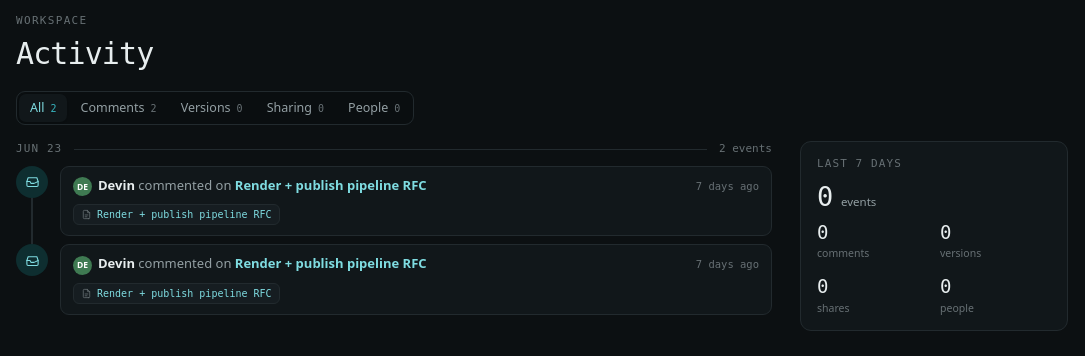
Test case: ActivityScreen category filter (workspace-activity S-003) › AS-013: a filter with no visible matches shows the no-results state; Clear returns to All
Expected: the element with test id "activity-feed" is shown, [16, 141, 772, 315]
Select Sharing → zero visible share events → no-results state with a Clear control.
Click the tab with test id "activity-filter-sharing". click: x=295, y=108
box: [256, 94, 335, 122]
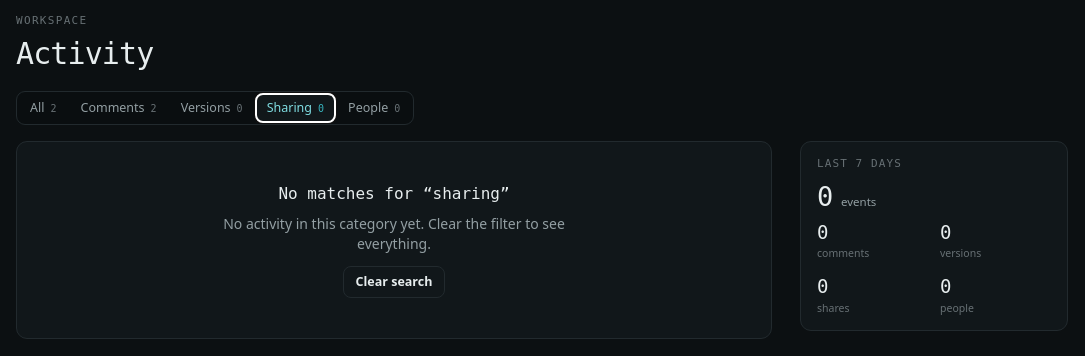
Result: the text "No matches for “sharing”" is shown at [278, 182, 510, 206]
Result: the element with test id "activity-feed" is gone
Clear → back to All → the feed (with its rows) returns.
Click the button "Clear search". click: x=394, y=282
box: [343, 266, 446, 298]
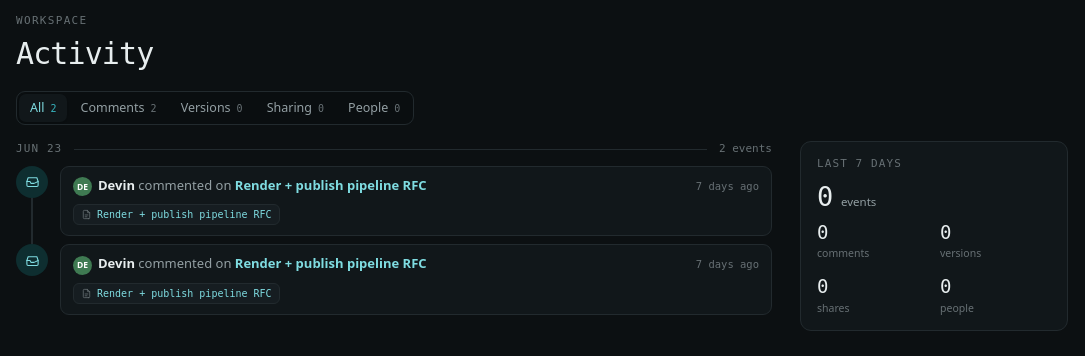
Result: the element with test id "activity-feed" is shown at [16, 141, 772, 315]
